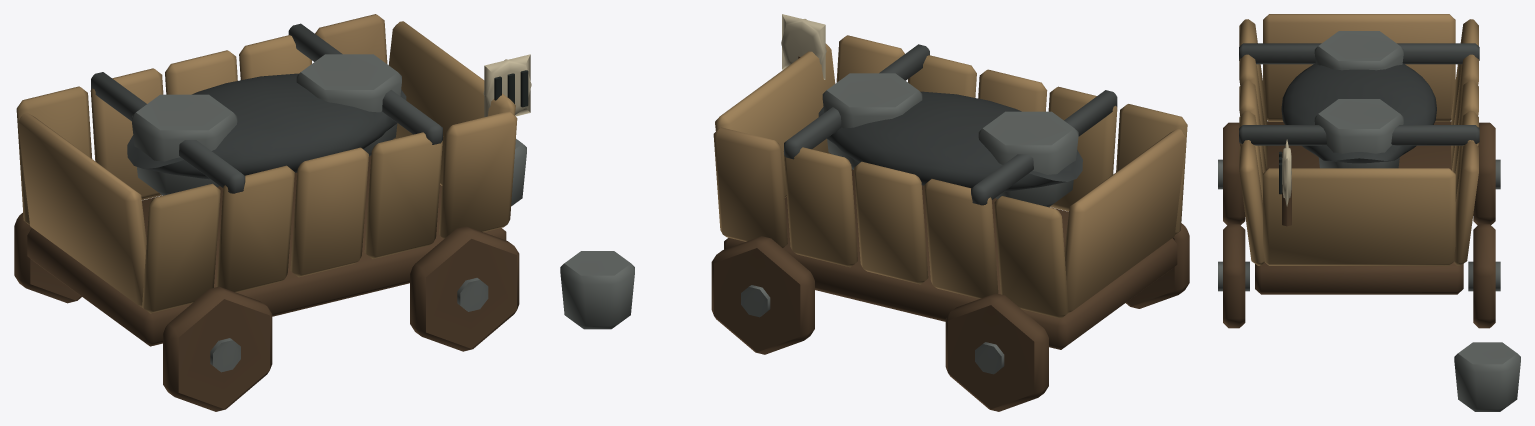
Rendered from tin_cart_a.glb.
3 views of the same model, side by side, from view 1: azimuth 30°, elevation 25°; view 2: azimuth 150°, elevation 25°; view 3: azimuth 270°, elevation 25° (orthographic). The views are drawn at different scales.
Parts seen in each view (by area): view 1: Surface; view 2: Surface; view 3: Surface.
Boxes of the visible parts, x1,y1,x2,y2 form: Surface: (14, 14, 531, 411); Surface: (560, 14, 1189, 411); Surface: (1218, 14, 1520, 411).
Size of the model in its own units: 3.18 by 1.47 by 1.89.
